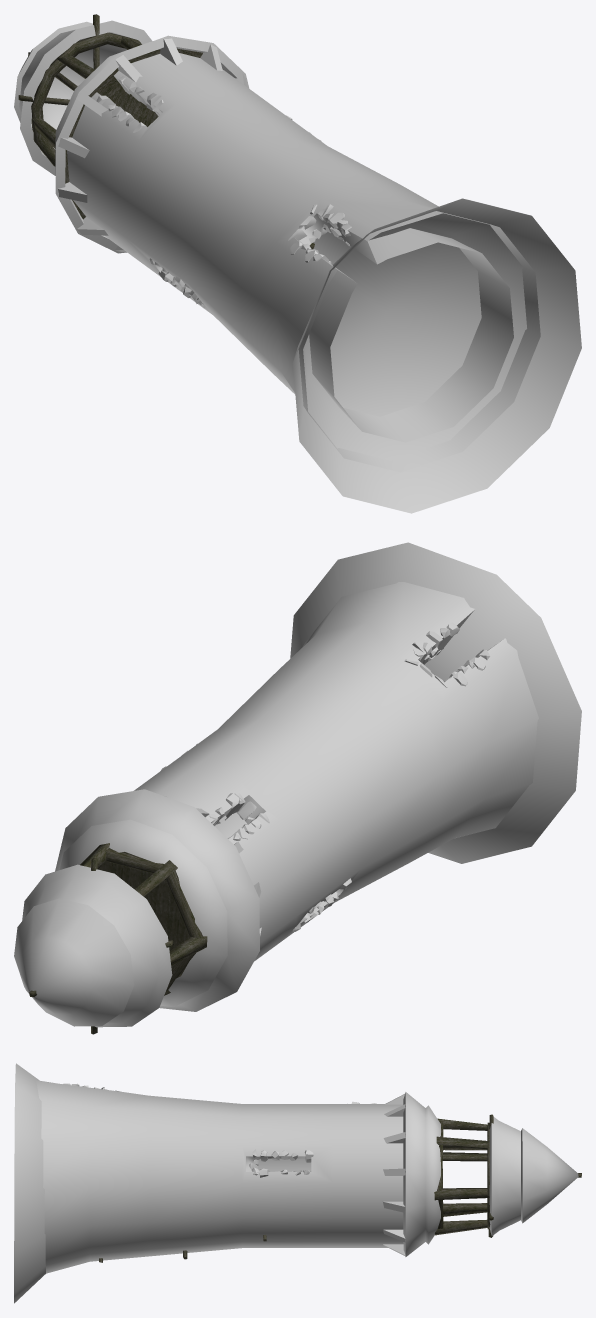
Rendered from TI_Tower_01_LOD_01.fbx.
3 views of the same model, one above another, from view 1: azimuth 30°, elevation 25°; view 2: azimuth 150°, elevation 25°; view 3: azimuth 270°, elevation 25° (orthographic). The views are drawn at different scales.
Parts seen in each view (by area): view 1: TI_Tower_Wall_LOD_01, TI_Tower_Roof_LOD_01, TI_Tower_WFrame_LOD_01; view 2: TI_Tower_Wall_LOD_01, TI_Tower_Roof_LOD_01, TI_Tower_WFrame_LOD_01; view 3: TI_Tower_Wall_LOD_01, TI_Tower_Roof_LOD_01, TI_Tower_WFrame_LOD_01.
Part boxes in pixels (bbox=[...]): TI_Tower_Wall_LOD_01: bbox=[58, 38, 581, 513]; TI_Tower_Roof_LOD_01: bbox=[14, 20, 249, 253]; TI_Tower_WFrame_LOD_01: bbox=[18, 14, 314, 249]; TI_Tower_Wall_LOD_01: bbox=[134, 542, 581, 961]; TI_Tower_Roof_LOD_01: bbox=[14, 789, 259, 1027]; TI_Tower_WFrame_LOD_01: bbox=[29, 843, 207, 1034]; TI_Tower_Wall_LOD_01: bbox=[14, 1063, 405, 1303]; TI_Tower_Roof_LOD_01: bbox=[403, 1092, 578, 1256]; TI_Tower_WFrame_LOD_01: bbox=[99, 1114, 581, 1262].
Bounding box in the file's own units: 17.81 × 17.81 × 42.86.
